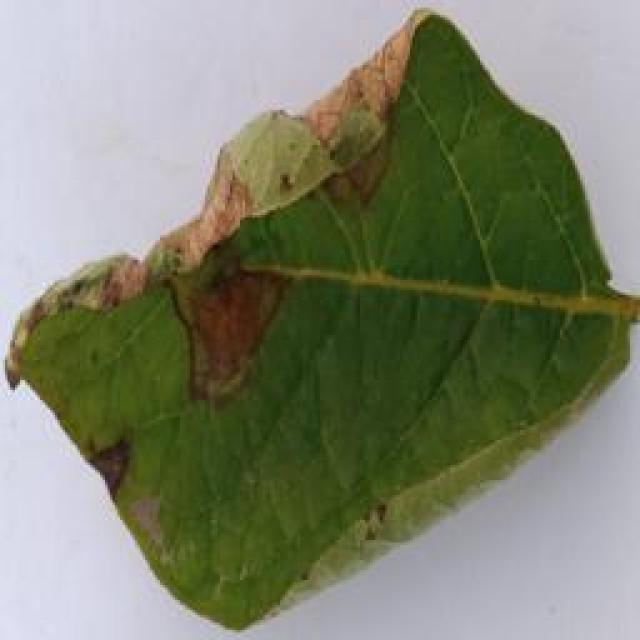Potato_Late_Blight: (9, 9, 626, 631)
